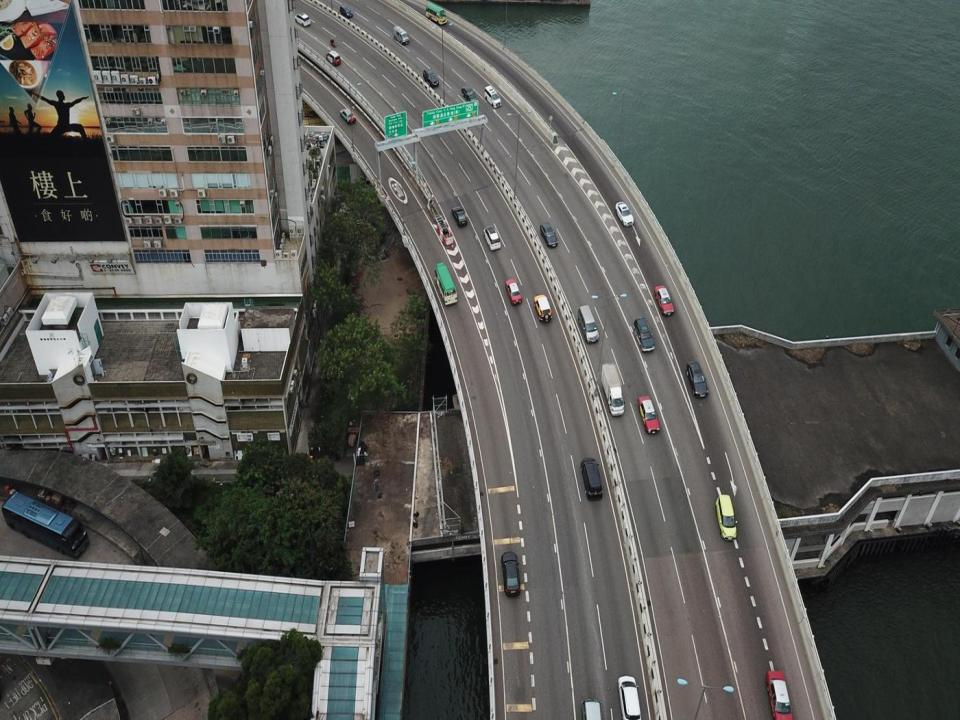bus: (0, 488, 91, 559), (432, 261, 458, 306), (424, 2, 448, 24)
car: (764, 665, 794, 719), (615, 673, 641, 719), (499, 549, 523, 597), (580, 455, 604, 500), (686, 359, 709, 405), (636, 394, 660, 435), (632, 316, 656, 354), (654, 283, 678, 316), (481, 219, 503, 252), (614, 200, 636, 229), (504, 277, 525, 307), (538, 219, 559, 248), (483, 84, 502, 111), (452, 202, 470, 229), (460, 82, 479, 105), (339, 106, 358, 127), (422, 66, 440, 88), (324, 49, 343, 68)
truck: (602, 362, 625, 417)
van: (713, 492, 739, 541), (576, 302, 601, 344), (532, 294, 554, 323), (579, 696, 604, 719), (392, 24, 410, 46), (294, 10, 311, 30), (338, 3, 354, 19)
